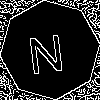N: (25, 25, 67, 75)
